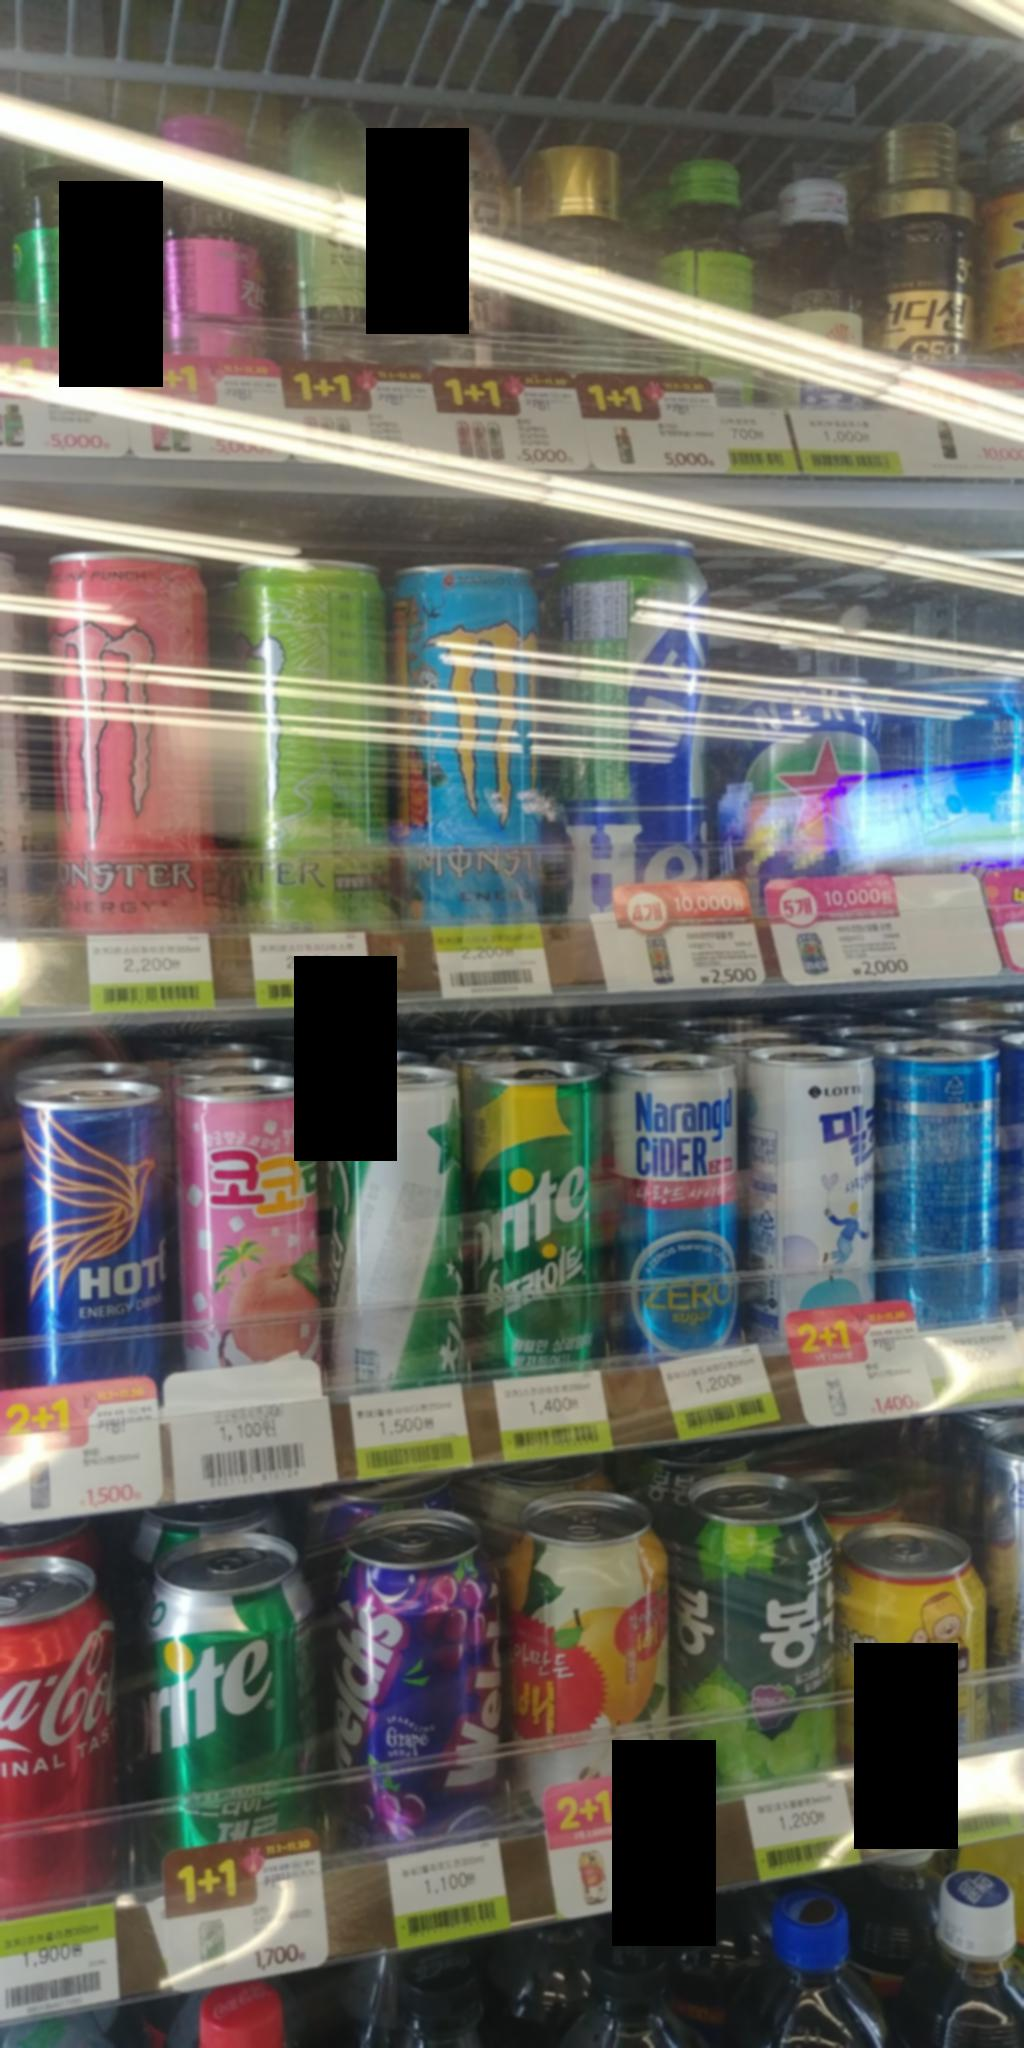hotsix_org: (21, 1063, 179, 1388)
narangdcider: (616, 1053, 769, 1369)
welchs_grape: (341, 1526, 515, 1821)
